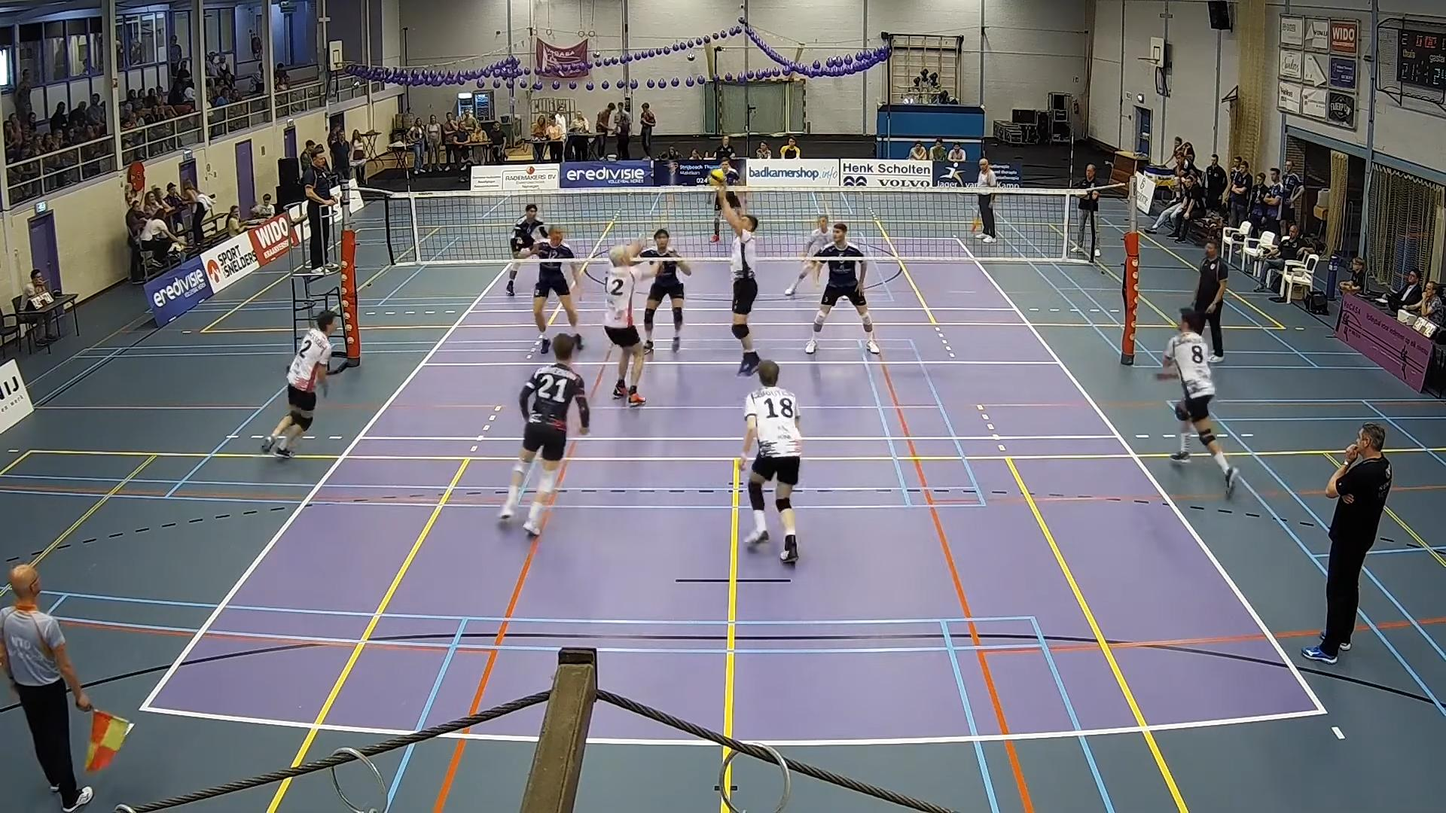alzata: (715, 192, 774, 382)
